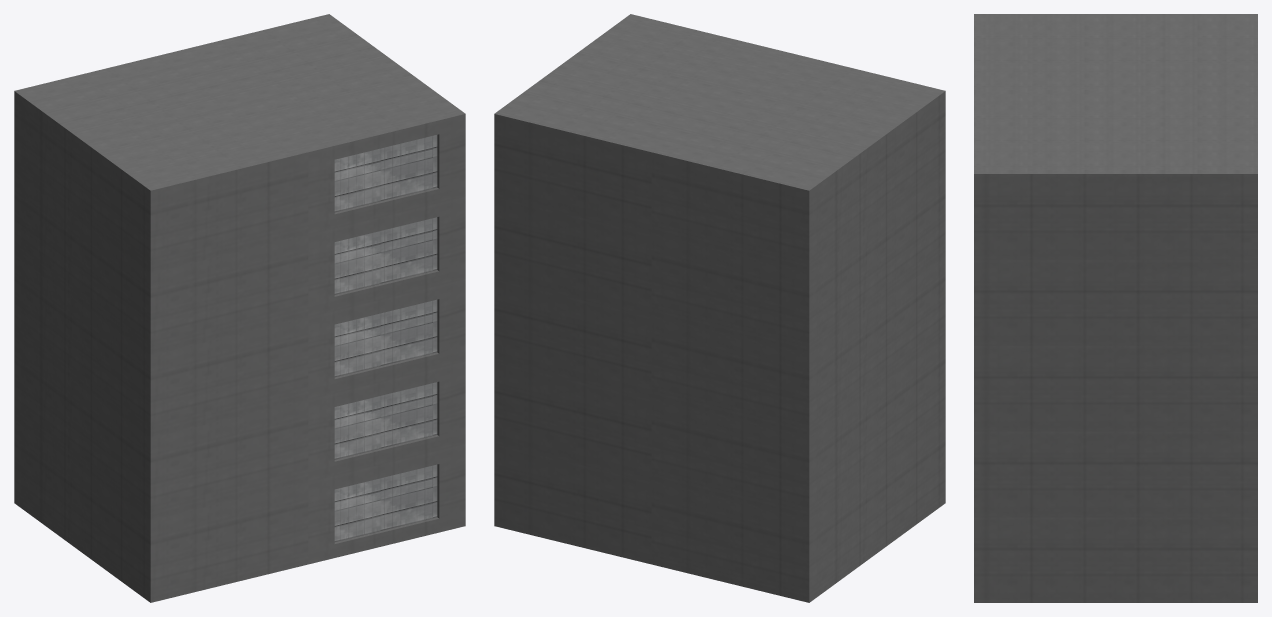
The model's file is BgMD_Building_06_01.fbx.
3 views of the same model, side by side, from view 1: azimuth 30°, elevation 25°; view 2: azimuth 150°, elevation 25°; view 3: azimuth 270°, elevation 25° (orthographic). The views are drawn at different scales.
Visible parts, largest first — view 1: pCube136; view 2: pCube136; view 3: pCube136.
Part boxes in pixels (left/top/right/bottom): pCube136: left=14, top=14, right=465, bottom=602; pCube136: left=494, top=14, right=945, bottom=602; pCube136: left=974, top=14, right=1257, bottom=602.
Size of the model in its own units: 2000 by 2500 by 1500.
